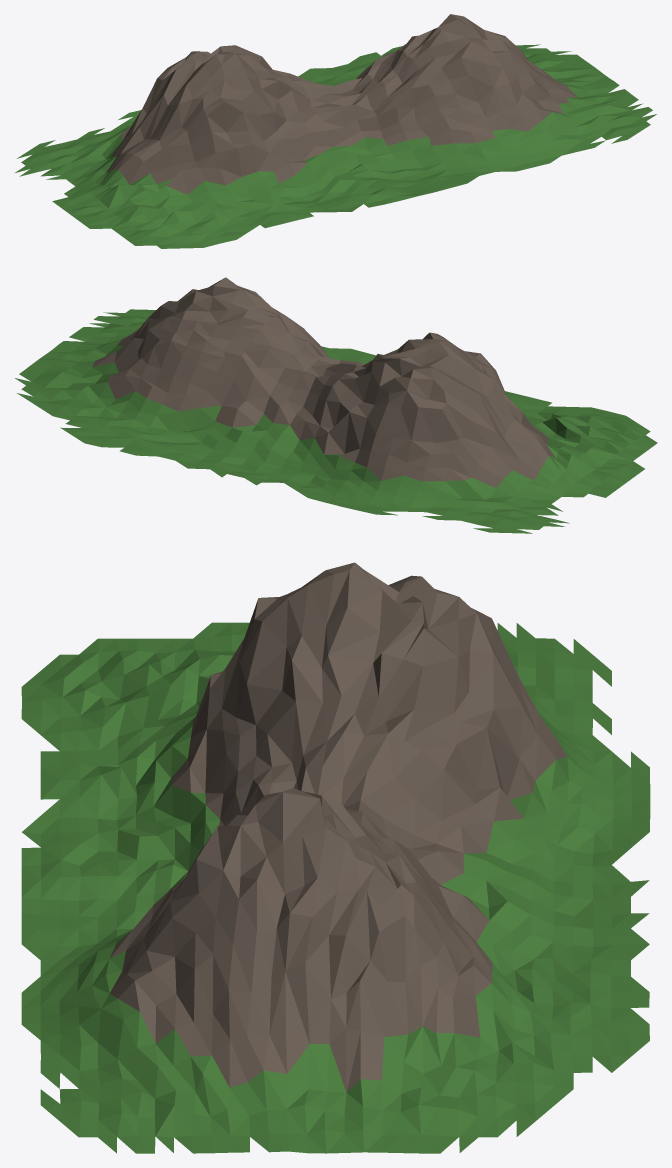
Rendered from mountain.fbx.
3 renders of one model, top to bottom at view 1: azimuth 30°, elevation 25°; view 2: azimuth 150°, elevation 25°; view 3: azimuth 270°, elevation 25°, orthographic. The views are drawn at different scales.
Parts seen in each view (by area): view 1: mountain; view 2: mountain; view 3: mountain.
Part boxes in pixels (bbox=[...]): mountain: bbox=[14, 14, 656, 248]; mountain: bbox=[15, 277, 657, 533]; mountain: bbox=[21, 562, 650, 1153].
Bounding box in the file's own units: 20000 × 3979 × 10007.
